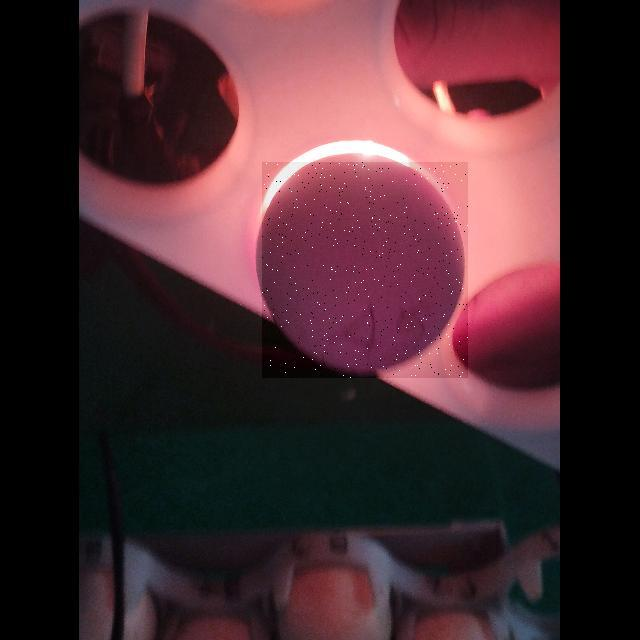Fertile: (262, 162, 468, 378)
